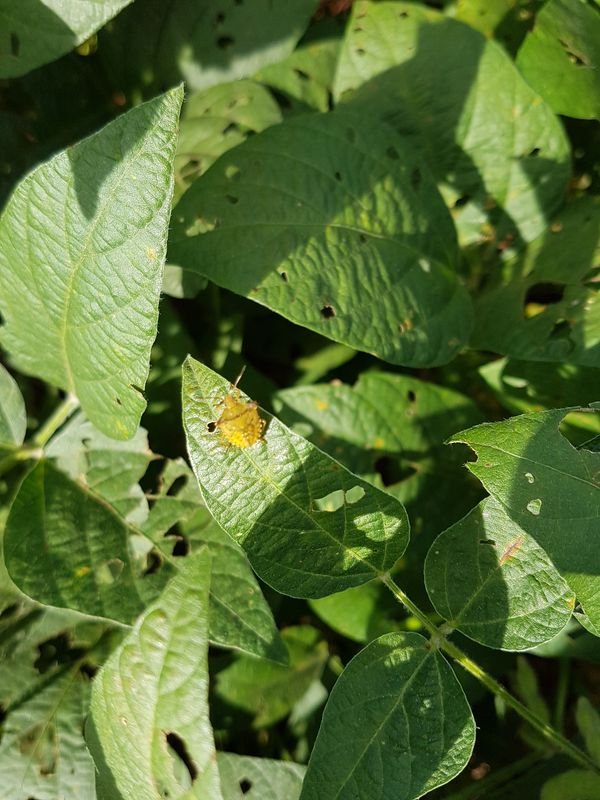Euschistus_heros_ninfa: (177, 361, 286, 464)
